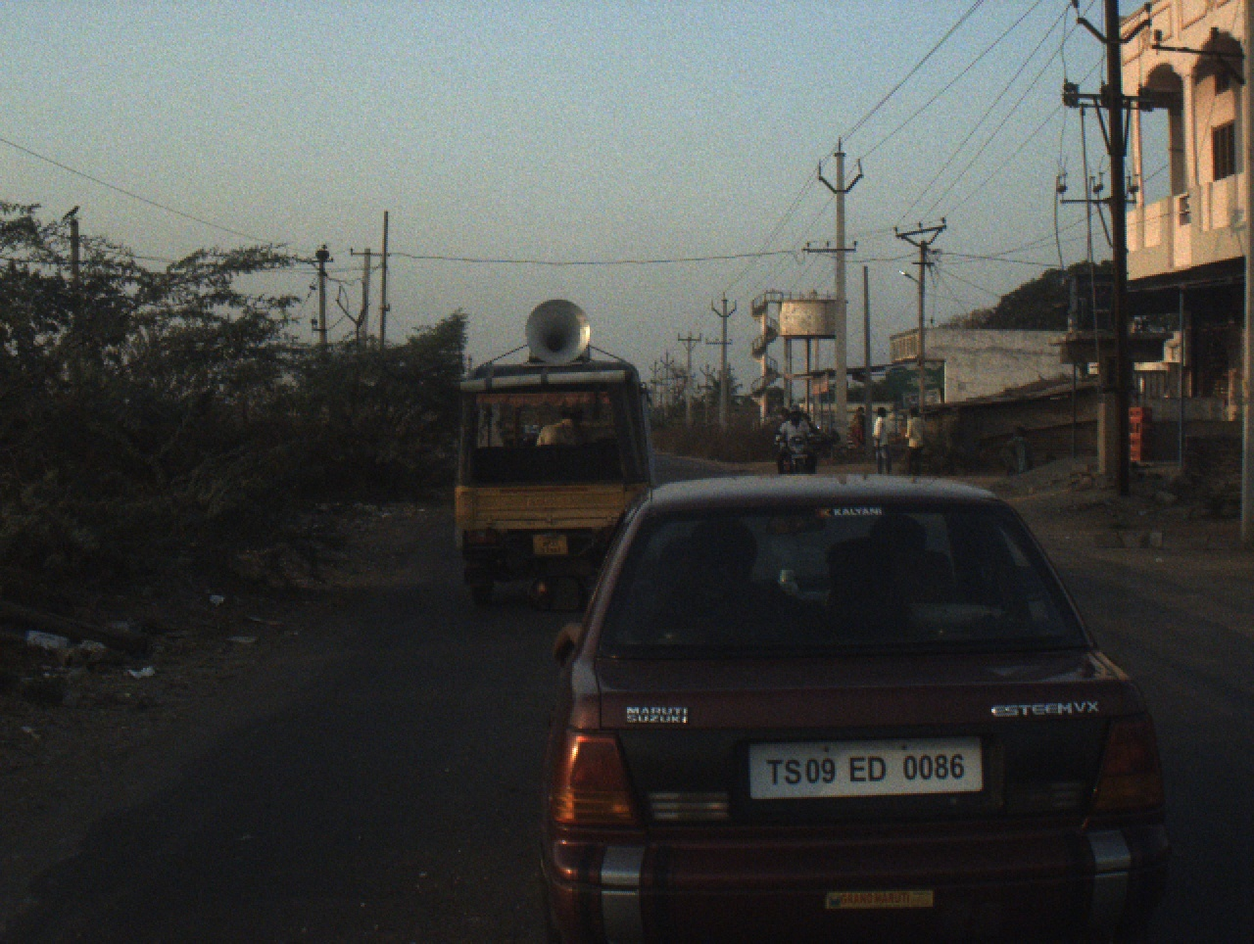autorickshaw: (456, 301, 654, 611)
car: (515, 465, 1174, 940)
motorcycle: (776, 432, 815, 475)
person: (901, 403, 933, 481), (996, 422, 1035, 483), (868, 405, 892, 481), (844, 403, 874, 455)
rider: (771, 410, 820, 458)
